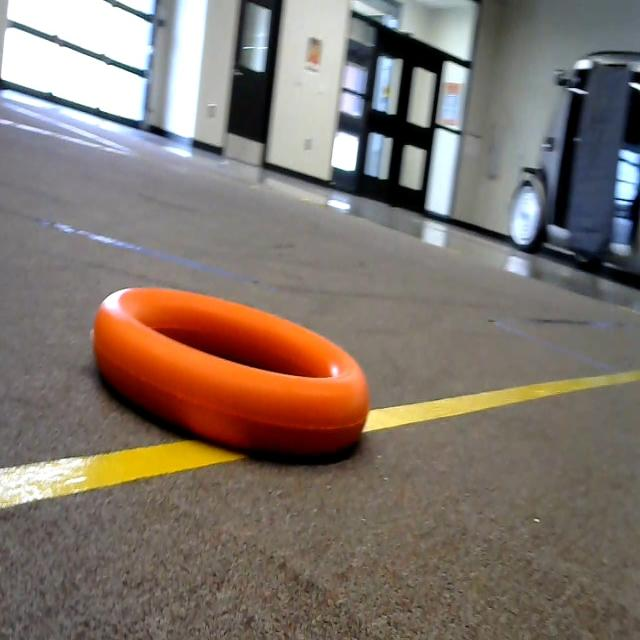note: (79, 229, 391, 479)
